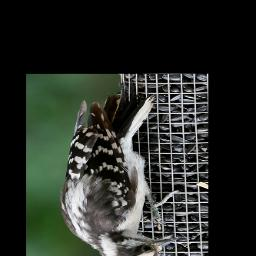Woodpecker: (60, 88, 181, 256)
